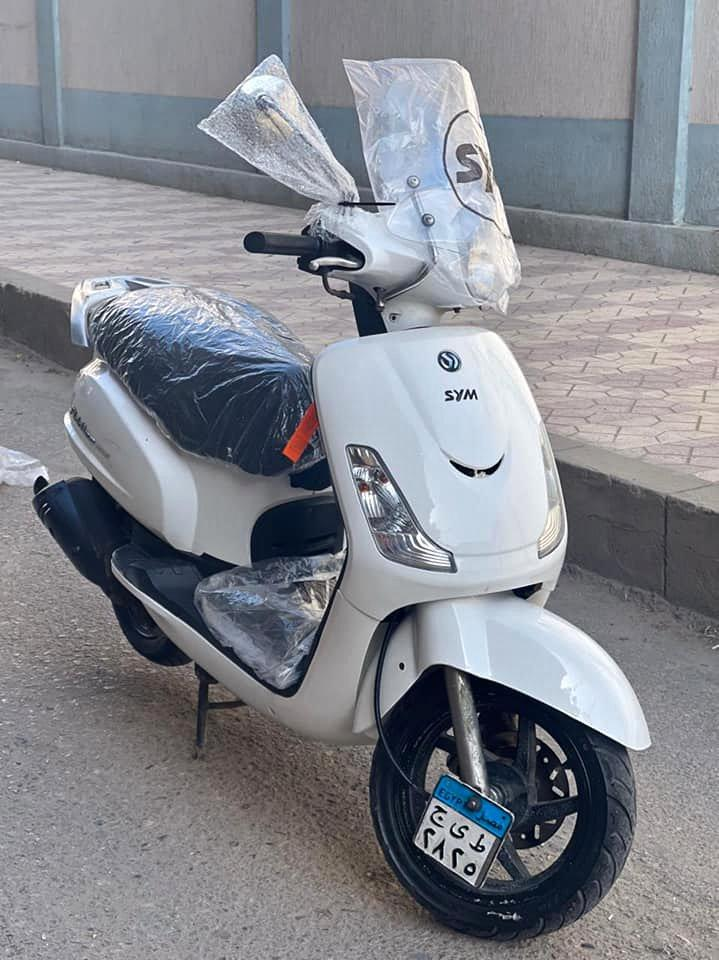License Plate: (415, 772, 518, 885)
